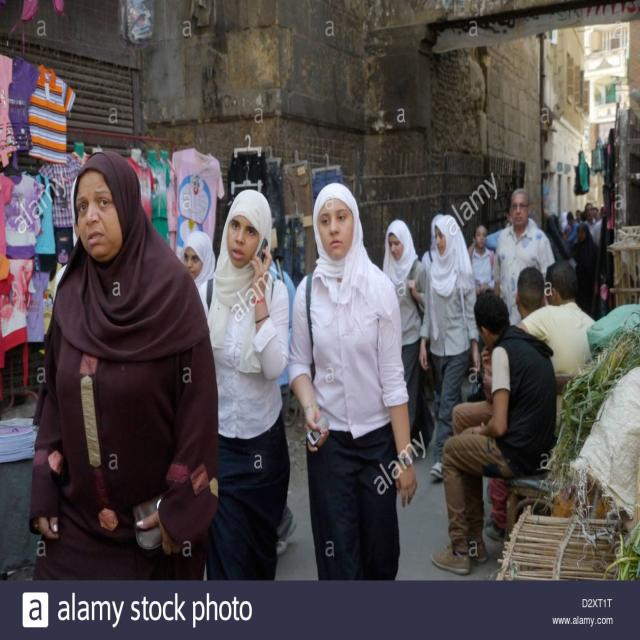body: (25, 148, 222, 582), (285, 180, 419, 581), (427, 284, 562, 578), (198, 188, 291, 580), (511, 256, 604, 450), (417, 212, 482, 481), (256, 229, 298, 556), (381, 218, 428, 433), (491, 188, 556, 327), (548, 181, 608, 270), (566, 218, 602, 328), (179, 230, 218, 319), (467, 223, 496, 295), (514, 264, 547, 320), (482, 204, 516, 256), (544, 214, 572, 264)
